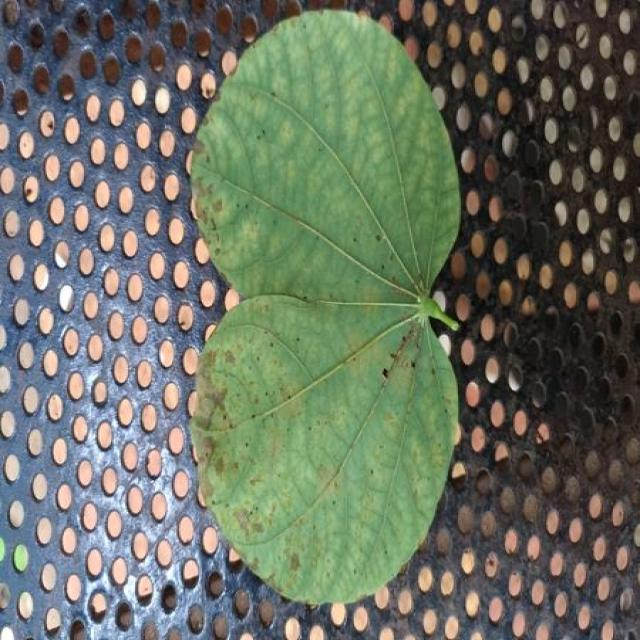Kambajala: (192, 11, 458, 603)
